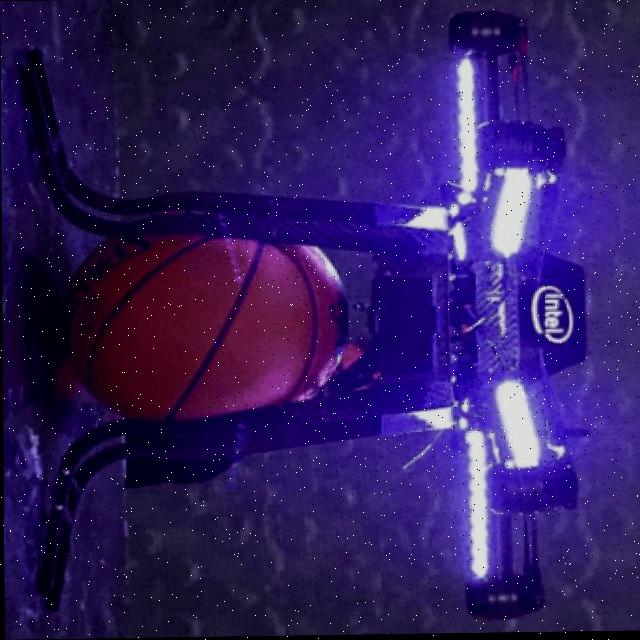drone: (342, 19, 586, 636)
